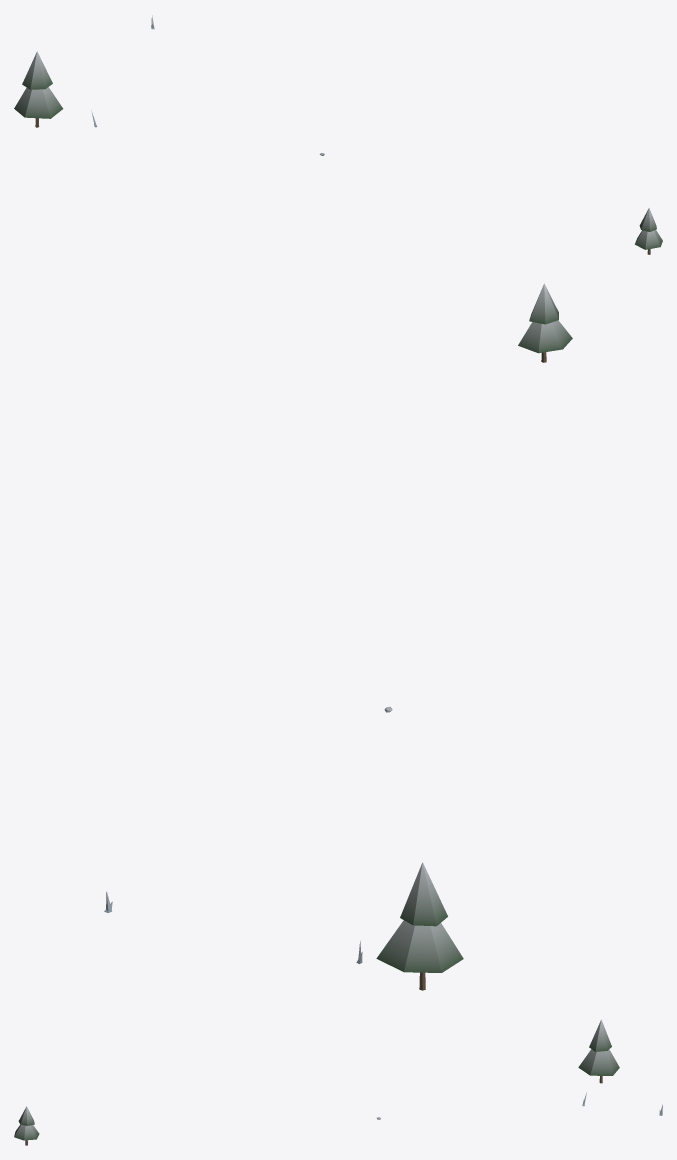
Rendered from frost_land_scatter_c11_09_lod1.glb.
The picture shows the model from 3 angles, top to bottom: view 1: azimuth 30°, elevation 25°; view 2: azimuth 150°, elevation 25°; view 3: azimuth 270°, elevation 25°; orthographic projection. The views are drawn at different scales.
Visible parts, largest first — view 1: frost_land_scatter_c11_09_lod1; view 2: frost_land_scatter_c11_09_lod1; view 3: frost_land_scatter_c11_09_lod1.
Part boxes in pixels (left/top/right/bottom): frost_land_scatter_c11_09_lod1: left=14, top=15, right=662, bottom=254; frost_land_scatter_c11_09_lod1: left=104, top=283, right=572, bottom=990; frost_land_scatter_c11_09_lod1: left=14, top=1019, right=662, bottom=1145.
Size of the model in its own units: 53.69 by 18.4 by 120.
